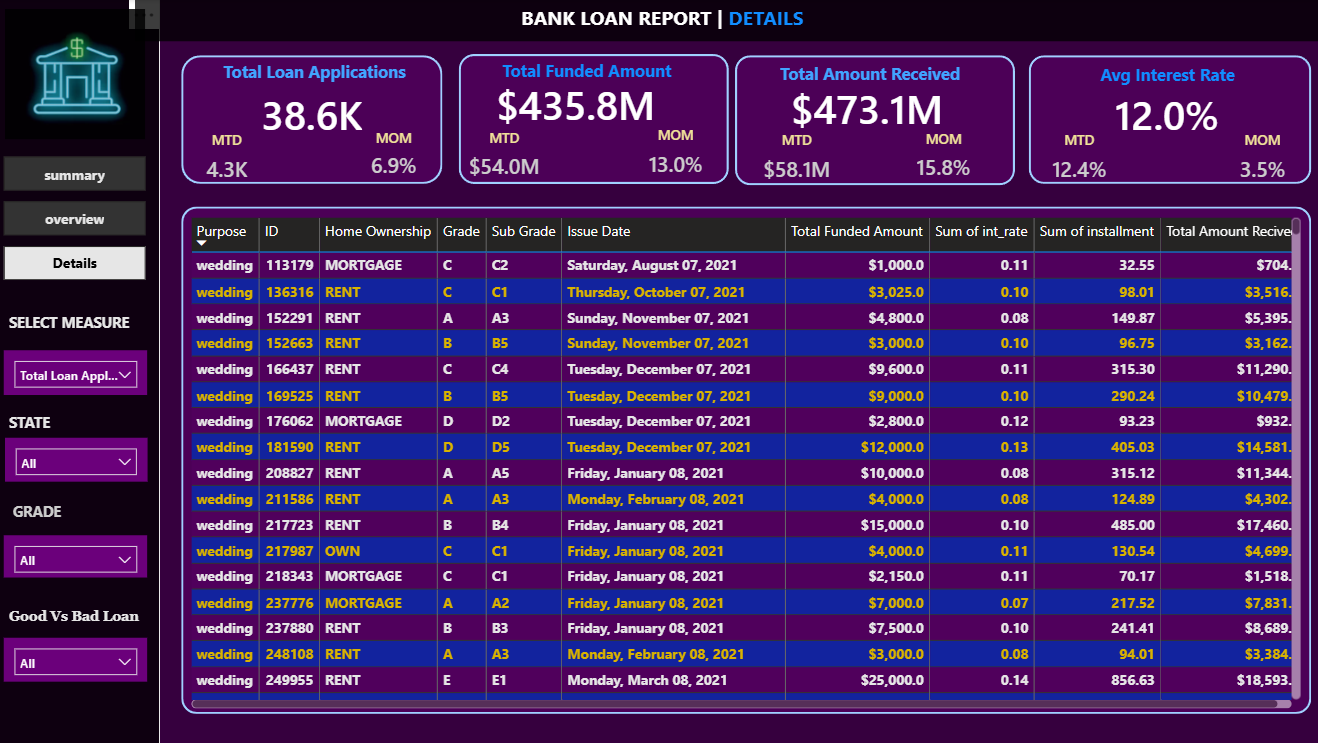

The dashboard page shown, as its layout file describes it:
{"tool":"powerbi","page":{"name":"Details","canvas":[1280,720],"ordinal":2},"visuals":[{"type":"shape","box":[179.8,200.3,1090.6,489.8],"z":0},{"type":"textbox","box":[0,0,159.3,720.2],"z":1000},{"type":"textbox","box":[135.1,0,1144.9,41],"z":2000},{"type":"textbox","box":[446.4,0,395.7,41],"z":3000},{"type":"slicer","fields":{"Values":["public loan_finance.address_state"]},"box":[9.7,423.5,137.5,42.2],"z":4000},{"type":"textbox","box":[8.4,394.5,126.7,29],"z":5000},{"type":"slicer","fields":{"Values":["public loan_finance.grade"]},"box":[8.4,517.6,138.7,41],"z":6000},{"type":"textbox","box":[12.1,480.2,135.1,29],"z":7000},{"type":"slicer","fields":{"Values":["public loan_finance.purpose"]},"box":[8.4,616.5,138.7,42.2],"z":8000},{"type":"textbox","box":[8.4,581.5,138.7,45.8],"z":9000},{"type":"slicer","fields":{"Values":["Select Measure.Select Measure"]},"box":[8.4,339,138.7,43.4],"z":10000},{"type":"textbox","box":[8.4,298,137.5,31.4],"z":11000},{"type":"tableEx","fields":{"Values":["public loan_finance.purpose","public loan_finance.id","public loan_finance.home_ownership","public loan_finance.grade","public loan_finance.sub_grade","public loan_finance.issue_date","public loan_finance.Total Funded Amount","Sum(public loan_finance.int_rate)","Sum(public loan_finance.installment)","public loan_finance.total amount recived"]},"box":[183.4,206.3,1082.2,483.8],"z":12000},{"type":"pageNavigator","box":[8.4,152,137.5,119.4],"z":13000},{"type":"shape","box":[179.8,54.3,252.1,124.3],"z":14000},{"type":"cardVisual","fields":{"Data":["public loan_finance.Total Loan Applications"]},"box":[216,85.7,181,48.3],"z":15000},{"type":"textbox","box":[207.5,54.3,201.5,31.4],"z":16000},{"type":"cardVisual","title":"MTD","fields":{"Data":["public loan_finance.MTD Loan Applications"]},"box":[179.8,126.7,88.1,54.3],"z":17000},{"type":"cardVisual","title":"MOM","fields":{"Data":["public loan_finance.MOM LOan application"]},"box":[337.8,124.3,94.1,50.7],"z":18000},{"type":"shape","box":[714.2,54.3,270.2,125.5],"z":19000},{"type":"cardVisual","fields":{"Data":["public loan_finance.total amount recived"]},"box":[751.6,79.6,181,48.3],"z":20000},{"type":"textbox","box":[729.9,55.5,229.2,33.8],"z":21000},{"type":"cardVisual","title":"MTD","fields":{"Data":["public loan_finance.MTD amount recived"]},"box":[714.2,126.7,119.4,54.3],"z":22000},{"type":"cardVisual","title":"MOM","fields":{"Data":["public loan_finance.MOM amount recived"]},"box":[863.8,125.5,103.8,54.3],"z":23000},{"type":"shape","box":[447.6,53.1,260.6,125.5],"z":24000},{"type":"cardVisual","fields":{"Data":["public loan_finance.Total Funded Amount"]},"box":[470.5,76,181,48.3],"z":25000},{"type":"cardVisual","title":"MTD","fields":{"Data":["public loan_finance.MTD funded amount"]},"box":[431.9,124.3,119.4,54.3],"z":26000},{"type":"cardVisual","title":"MOM","fields":{"Data":["public loan_finance.MOM funded amount"]},"box":[606.8,121.9,100.1,54.3],"z":27000},{"type":"shape","box":[997.7,54.3,272.7,124.3],"z":28000},{"type":"cardVisual","fields":{"Data":["public loan_finance.avg intrest rat"]},"box":[1041.2,85.7,181,48.3],"z":29000},{"type":"textbox","box":[1025.5,56.7,212.3,36.2],"z":30000},{"type":"cardVisual","title":"MTD","fields":{"Data":["public loan_finance.MTD intrest rate"]},"box":[1002.6,126.7,88.1,54.3],"z":31000},{"type":"cardVisual","title":"MOM","fields":{"Data":["public loan_finance.MOM avg intrest rate"]},"box":[1176.3,126.7,94.1,54.3],"z":32000},{"type":"image","box":[10,10,135.1,125.5],"z":33000},{"type":"textbox","box":[447.6,53.1,247.3,36.2],"z":34000}]}

Visuals, with their boxes on the page's 1280x720 design canvas (x1, y1, x2, y2). These are canvas units, not pixel positions in the 1318x743 screenshot, which may show the page scaled, cropped or inside an application window:
shape: bbox=[180, 200, 1270, 690]
textbox: bbox=[0, 0, 159, 720]
textbox: bbox=[135, 0, 1280, 41]
textbox: bbox=[446, 0, 842, 41]
slicer - public loan_finance.address_state: bbox=[10, 424, 147, 466]
textbox: bbox=[8, 394, 135, 424]
slicer - public loan_finance.grade: bbox=[8, 518, 147, 559]
textbox: bbox=[12, 480, 147, 509]
slicer - public loan_finance.purpose: bbox=[8, 616, 147, 659]
textbox: bbox=[8, 582, 147, 627]
slicer - Select Measure.Select Measure: bbox=[8, 339, 147, 382]
textbox: bbox=[8, 298, 146, 329]
tableEx - public loan_finance.purpose x public loan_finance.id: bbox=[183, 206, 1266, 690]
pageNavigator: bbox=[8, 152, 146, 271]
shape: bbox=[180, 54, 432, 179]
cardVisual - public loan_finance.Total Loan Applications: bbox=[216, 86, 397, 134]
textbox: bbox=[208, 54, 409, 86]
"MTD" cardVisual: bbox=[180, 127, 268, 181]
"MOM" cardVisual: bbox=[338, 124, 432, 175]
shape: bbox=[714, 54, 984, 180]
cardVisual - public loan_finance.total amount recived: bbox=[752, 80, 933, 128]
textbox: bbox=[730, 56, 959, 89]
"MTD" cardVisual: bbox=[714, 127, 834, 181]
"MOM" cardVisual: bbox=[864, 126, 968, 180]
shape: bbox=[448, 53, 708, 179]
cardVisual - public loan_finance.Total Funded Amount: bbox=[470, 76, 652, 124]
"MTD" cardVisual: bbox=[432, 124, 551, 179]
"MOM" cardVisual: bbox=[607, 122, 707, 176]
shape: bbox=[998, 54, 1270, 179]
cardVisual - public loan_finance.avg intrest rat: bbox=[1041, 86, 1222, 134]
textbox: bbox=[1026, 57, 1238, 93]
"MTD" cardVisual: bbox=[1003, 127, 1091, 181]
"MOM" cardVisual: bbox=[1176, 127, 1270, 181]
image: bbox=[10, 10, 145, 136]
textbox: bbox=[448, 53, 695, 89]
